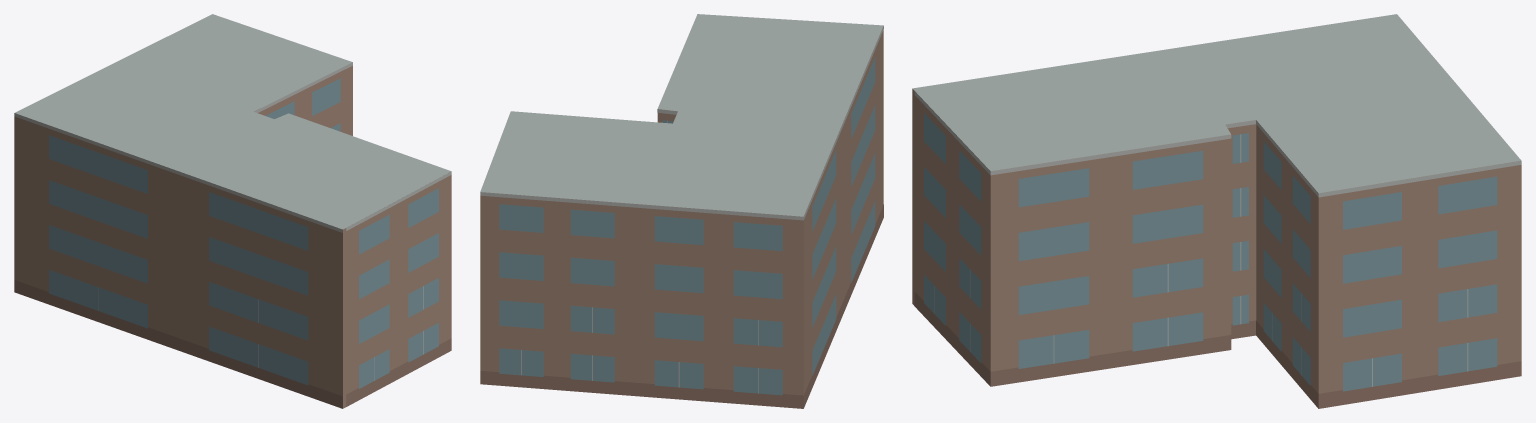
The model's file is survey-upis-32990546.glb.
3 views of the same model, side by side, from view 1: azimuth 30°, elevation 25°; view 2: azimuth 150°, elevation 25°; view 3: azimuth 270°, elevation 25° (orthographic). The views are drawn at different scales.
Visible parts, largest first — view 1: survey-upis-32990546.tmp; view 2: survey-upis-32990546.tmp; view 3: survey-upis-32990546.tmp.
Boxes of the visible parts, x1,y1,x2,y2 form: survey-upis-32990546.tmp: (14,14,451,408); survey-upis-32990546.tmp: (480,14,883,408); survey-upis-32990546.tmp: (912,14,1521,408).
Bounding box in the file's own units: 22.68 × 12.7 × 32.54.
